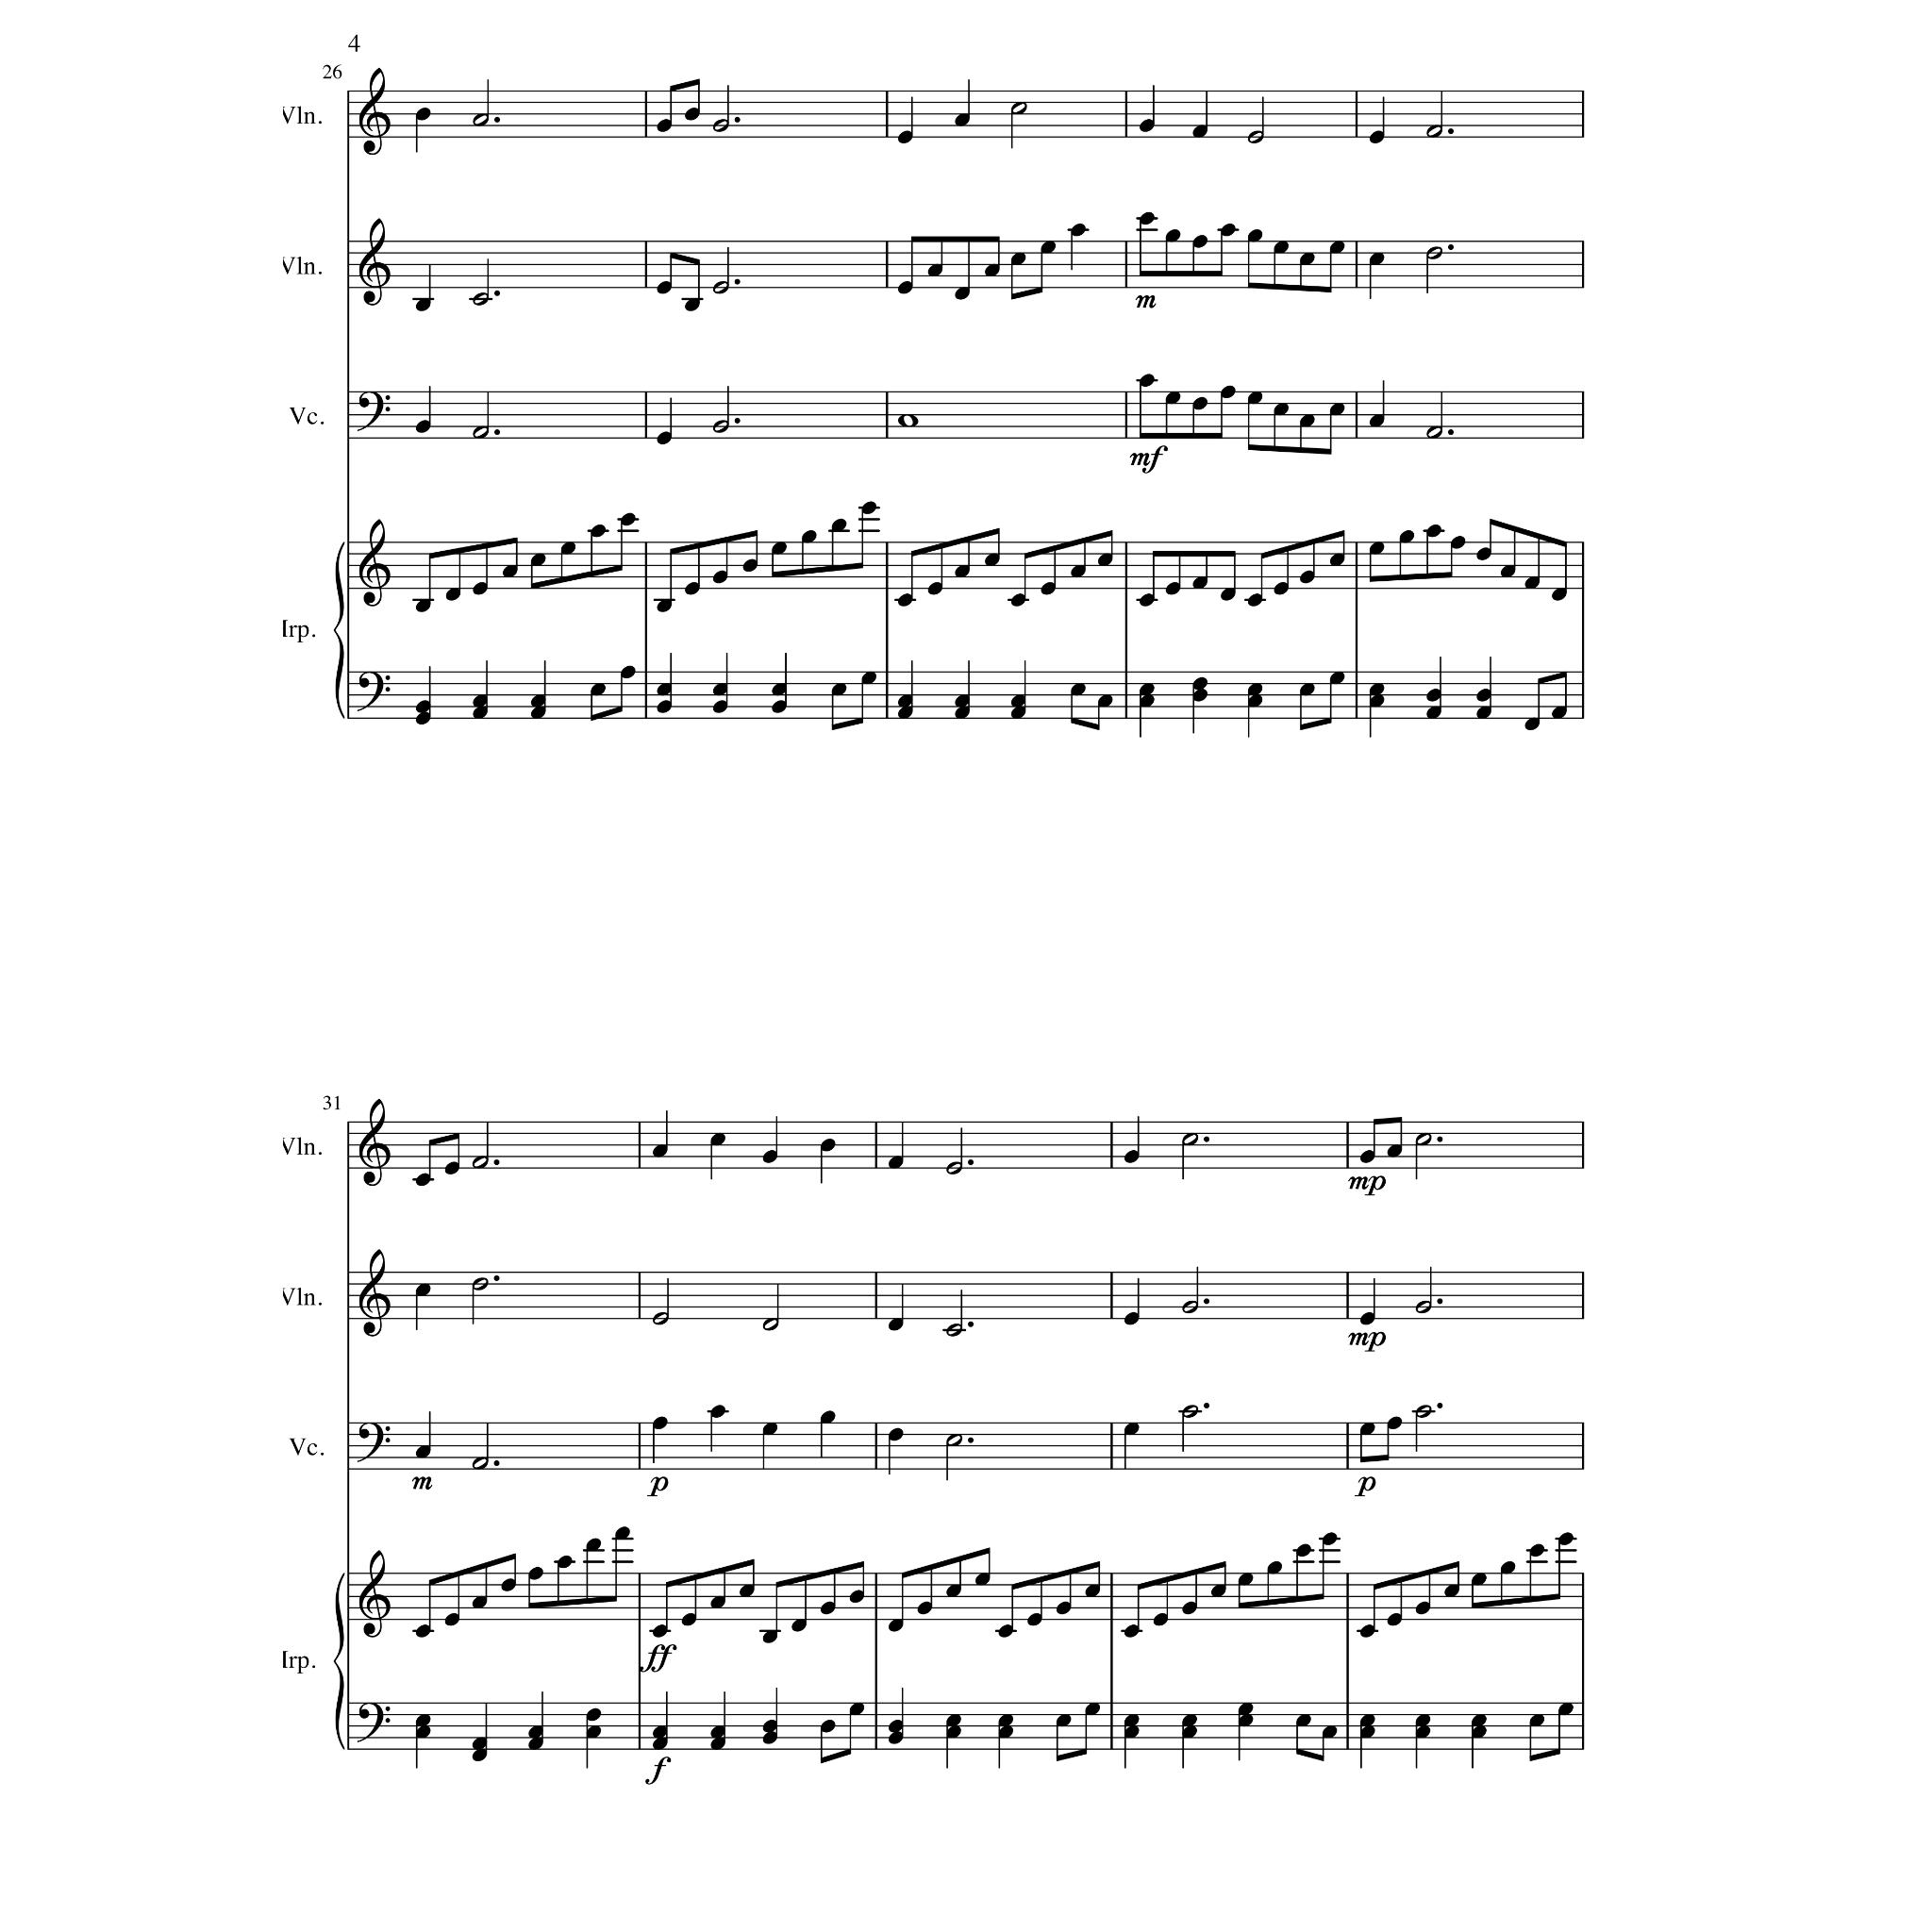brace: (332, 542, 345, 720), (332, 1573, 345, 1750)
fClef: (357, 391, 391, 432), (357, 1702, 391, 1743), (357, 672, 391, 711), (357, 1423, 391, 1462)
gClef: (358, 519, 391, 608), (358, 67, 391, 156), (358, 218, 391, 307), (358, 1550, 391, 1639), (358, 1098, 391, 1187), (358, 1249, 391, 1338)
noteheadBlack: (1138, 119, 1155, 134), (1138, 211, 1155, 226), (1096, 553, 1113, 568), (1138, 592, 1155, 608), (1164, 581, 1181, 596), (1328, 240, 1345, 255), (1328, 402, 1345, 417), (1328, 553, 1345, 568), (683, 581, 700, 596), (1040, 581, 1057, 596), (472, 581, 489, 596), (926, 581, 943, 596), (1009, 592, 1026, 608), (1040, 240, 1057, 255), (983, 553, 1000, 568), (896, 592, 913, 608), (1181, 1724, 1198, 1740), (1321, 1724, 1338, 1740), (1123, 1724, 1140, 1740), (1358, 1724, 1375, 1740), (585, 1724, 602, 1740), (500, 1577, 517, 1592), (651, 1143, 668, 1158), (651, 1415, 668, 1430), (651, 1736, 668, 1751), (651, 1724, 668, 1740), (945, 1724, 962, 1740), (709, 1736, 726, 1751), (709, 1724, 726, 1740), (1274, 240, 1289, 255), (1274, 402, 1289, 417), (1274, 581, 1289, 596), (1247, 592, 1262, 608), (657, 119, 672, 134), (530, 553, 545, 568), (415, 711, 430, 726), (998, 1724, 1013, 1740), (1472, 1724, 1487, 1740), (1415, 1724, 1430, 1740), (1387, 1143, 1402, 1158), (1387, 1415, 1402, 1430), (528, 1736, 543, 1751), (528, 1724, 543, 1740), (415, 1724, 430, 1740), (472, 1736, 487, 1751), (1096, 694, 1113, 708), (1138, 374, 1155, 387), (1138, 694, 1155, 708), (1138, 683, 1155, 696), (1070, 224, 1087, 237), (1070, 565, 1087, 578), (1070, 683, 1087, 696), (1164, 229, 1181, 242), (1164, 391, 1181, 405), (1500, 565, 1517, 578), (1551, 588, 1568, 601), (1551, 706, 1568, 719), (1475, 547, 1492, 560), (1475, 706, 1492, 719), (1475, 689, 1492, 702), (1368, 252, 1385, 265), (1368, 131, 1385, 144), (1368, 414, 1385, 427), (1368, 542, 1385, 556), (1368, 694, 1385, 708), (1368, 683, 1385, 696), (1328, 672, 1345, 685), (1398, 530, 1415, 543), (683, 108, 700, 121), (683, 299, 700, 312), (472, 706, 489, 719), (472, 694, 489, 708), (926, 264, 943, 277), (1009, 252, 1026, 265), (1009, 706, 1026, 719), (1009, 694, 1026, 708), (983, 264, 1000, 277), (741, 559, 758, 573), (711, 571, 728, 584), (711, 701, 728, 714), (711, 683, 728, 696), (860, 502, 877, 515), (860, 672, 877, 685), (896, 131, 913, 144), (896, 281, 913, 294), (896, 706, 913, 719), (896, 694, 913, 708), (830, 519, 847, 532), (830, 683, 847, 696), (1181, 1602, 1198, 1615), (1181, 1714, 1198, 1727), (1321, 1532, 1338, 1545), (1209, 1584, 1226, 1597), (1266, 1561, 1283, 1574), (1123, 1150, 1140, 1163), (1026, 1613, 1043, 1626), (1123, 1312, 1140, 1325), (1055, 1602, 1072, 1615), (1055, 1714, 1072, 1727), (1123, 1423, 1140, 1436), (1123, 1624, 1140, 1638), (1123, 1714, 1140, 1727), (1500, 1561, 1517, 1574), (1528, 1544, 1545, 1557), (1528, 1714, 1545, 1727), (1443, 1584, 1460, 1597), (1358, 1714, 1375, 1727), (1358, 1150, 1375, 1163), (1358, 1312, 1375, 1325), (1358, 1423, 1375, 1436), (1358, 1624, 1375, 1638), (585, 1538, 602, 1551), (585, 1707, 602, 1721), (651, 1624, 668, 1638), (443, 1162, 460, 1175), (443, 1613, 460, 1626), (945, 1584, 962, 1597), (945, 1714, 962, 1727), (738, 1584, 755, 1597), (709, 1596, 726, 1609), (709, 1133, 726, 1146), (709, 1405, 726, 1418), (791, 1619, 808, 1632), (819, 1139, 836, 1152), (819, 1410, 836, 1424), (819, 1602, 836, 1615), (819, 1720, 836, 1733), (1221, 386, 1236, 399), (1221, 224, 1236, 237), (1300, 683, 1315, 696), (1221, 588, 1236, 601), (1300, 571, 1315, 584), (1300, 414, 1315, 427), (1192, 576, 1207, 590), (1192, 689, 1207, 702), (1192, 677, 1207, 691), (1192, 397, 1207, 410), (1247, 683, 1262, 696), (1300, 252, 1315, 265), (1247, 229, 1262, 242), (1247, 391, 1262, 405), (1247, 694, 1262, 708), (1192, 125, 1207, 139), (1192, 235, 1207, 248), (1524, 576, 1540, 590), (1524, 718, 1540, 731), (1450, 536, 1465, 549), (1426, 525, 1441, 538), (1426, 706, 1441, 719), (1426, 689, 1441, 702), (621, 513, 636, 526), (621, 666, 636, 679), (657, 281, 672, 294), (657, 432, 672, 445), (657, 600, 672, 613), (657, 701, 672, 714), (657, 683, 672, 696), (530, 706, 545, 719), (530, 694, 545, 708), (560, 542, 575, 556), (591, 525, 606, 538), (591, 683, 606, 696), (415, 108, 430, 121), (415, 299, 430, 312), (415, 421, 430, 434), (415, 600, 430, 613), (415, 701, 430, 714), (502, 565, 517, 578), (445, 588, 460, 601), (955, 113, 970, 126), (955, 287, 970, 300), (955, 565, 970, 578), (955, 706, 970, 719), (955, 694, 970, 708), (772, 683, 787, 696), (772, 542, 787, 556), (772, 701, 787, 714), (802, 530, 817, 543), (1153, 1613, 1168, 1626), (1296, 1544, 1311, 1557), (1296, 1714, 1311, 1727), (1238, 1573, 1253, 1586), (1238, 1714, 1253, 1727), (1238, 1703, 1253, 1716), (1085, 1584, 1100, 1597), (1085, 1703, 1100, 1716), (975, 1573, 991, 1586), (998, 1714, 1013, 1727), (998, 1624, 1013, 1638), (1558, 1532, 1574, 1545), (1558, 1703, 1574, 1716), (1472, 1573, 1487, 1586), (1472, 1714, 1487, 1727), (1415, 1602, 1430, 1615), (1415, 1714, 1430, 1727), (1387, 1613, 1402, 1626), (557, 1556, 572, 1569), (615, 1526, 630, 1540), (528, 1567, 543, 1580), (415, 1174, 430, 1187), (415, 1284, 430, 1297), (415, 1445, 430, 1458), (415, 1624, 430, 1638), (415, 1714, 430, 1727), (472, 1596, 487, 1609), (472, 1748, 487, 1761), (889, 1318, 904, 1331), (889, 1428, 904, 1441), (889, 1619, 904, 1632), (889, 1731, 904, 1744), (889, 1720, 904, 1733), (889, 1156, 904, 1169), (849, 1590, 864, 1603), (849, 1703, 864, 1716), (917, 1602, 932, 1615), (762, 1150, 777, 1163), (762, 1630, 777, 1643), (762, 1731, 777, 1744), (762, 1720, 777, 1733), (681, 1613, 696, 1626), (762, 1423, 777, 1436)
noteheadHalf: (1247, 131, 1264, 144), (1425, 247, 1442, 260), (1425, 125, 1442, 139), (1425, 426, 1442, 440), (472, 113, 489, 126), (472, 292, 489, 306), (472, 426, 489, 440), (1010, 102, 1027, 115), (712, 120, 729, 133), (712, 281, 729, 294), (712, 421, 729, 434), (1182, 1405, 1199, 1418), (1182, 1133, 1199, 1146), (1182, 1301, 1199, 1314), (1415, 1133, 1432, 1146), (1415, 1301, 1432, 1314), (1415, 1405, 1432, 1418), (652, 1312, 669, 1325), (472, 1156, 489, 1169), (472, 1277, 489, 1291), (472, 1457, 489, 1470), (945, 1162, 962, 1175), (945, 1324, 962, 1337), (945, 1434, 962, 1447), (762, 1318, 779, 1331)
noteheadWhole: (896, 413, 919, 428)
